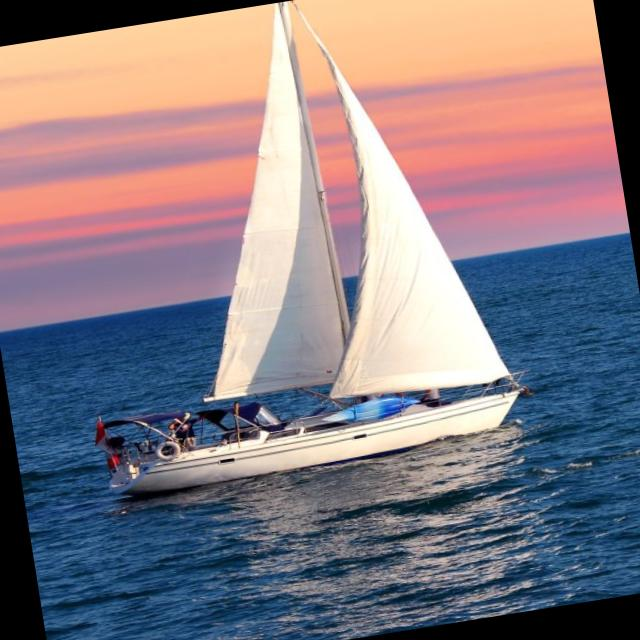boat: (20, 0, 553, 524)
